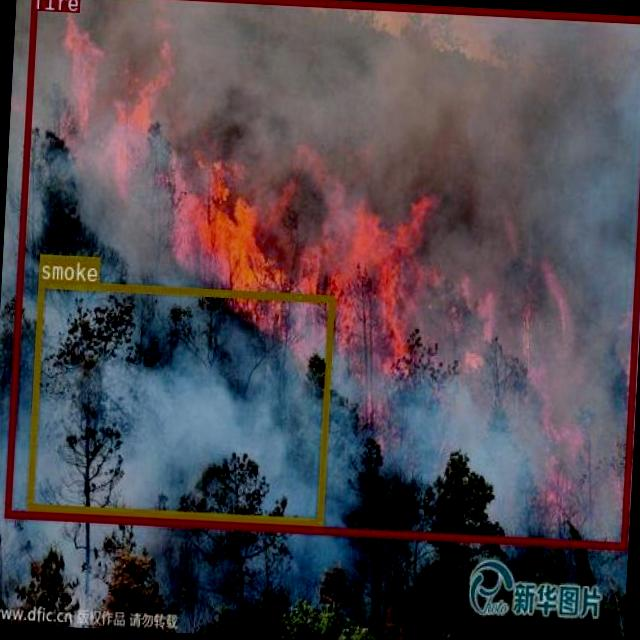fire: (3, 0, 640, 549)
smoke: (25, 279, 334, 525)
